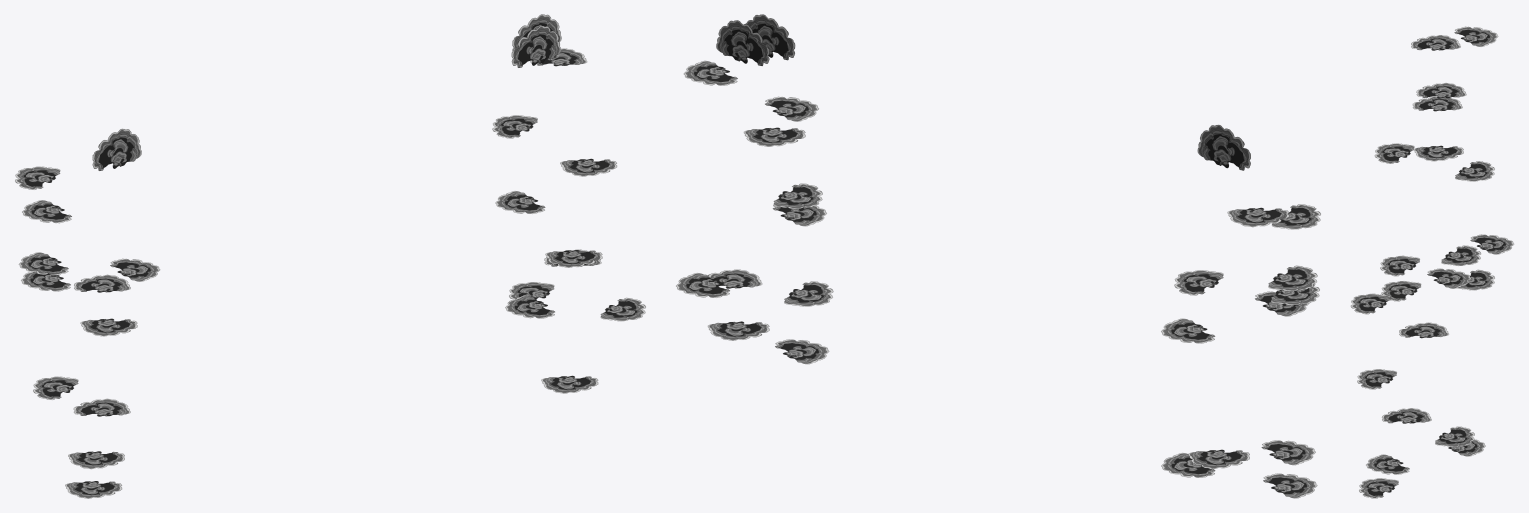
File: hongos.glb
3 renders of one model, left to right at view 1: azimuth 30°, elevation 25°; view 2: azimuth 150°, elevation 25°; view 3: azimuth 270°, elevation 25°, orthographic. The views are drawn at different scales.
Visible parts, largest first — view 1: hongos; view 2: hongos; view 3: hongos.
Boxes of the visible parts, x1,y1,x2,y2 form: hongos: (15,14,645,498); hongos: (676,14,1320,498); hongos: (1351,26,1513,498).
Bounding box in the file's own units: 29.7 × 16.03 × 8.13.
1 material, 1 textured.
